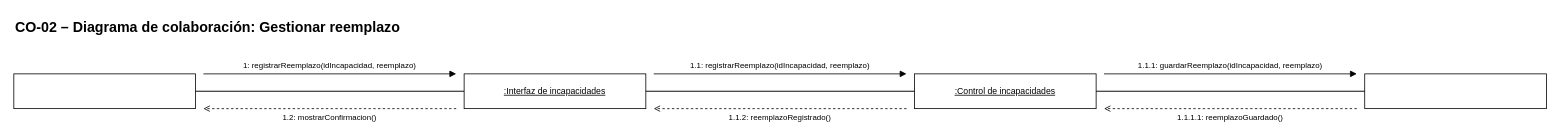
The diagram is 1560 pixels wide and 137 high, and some of its shapes have lost their labels. Each missing label, with the centre of its shape:
:Base de datos: point (1455, 91)
:Líder / Jefe inmediato: point (104, 91)
